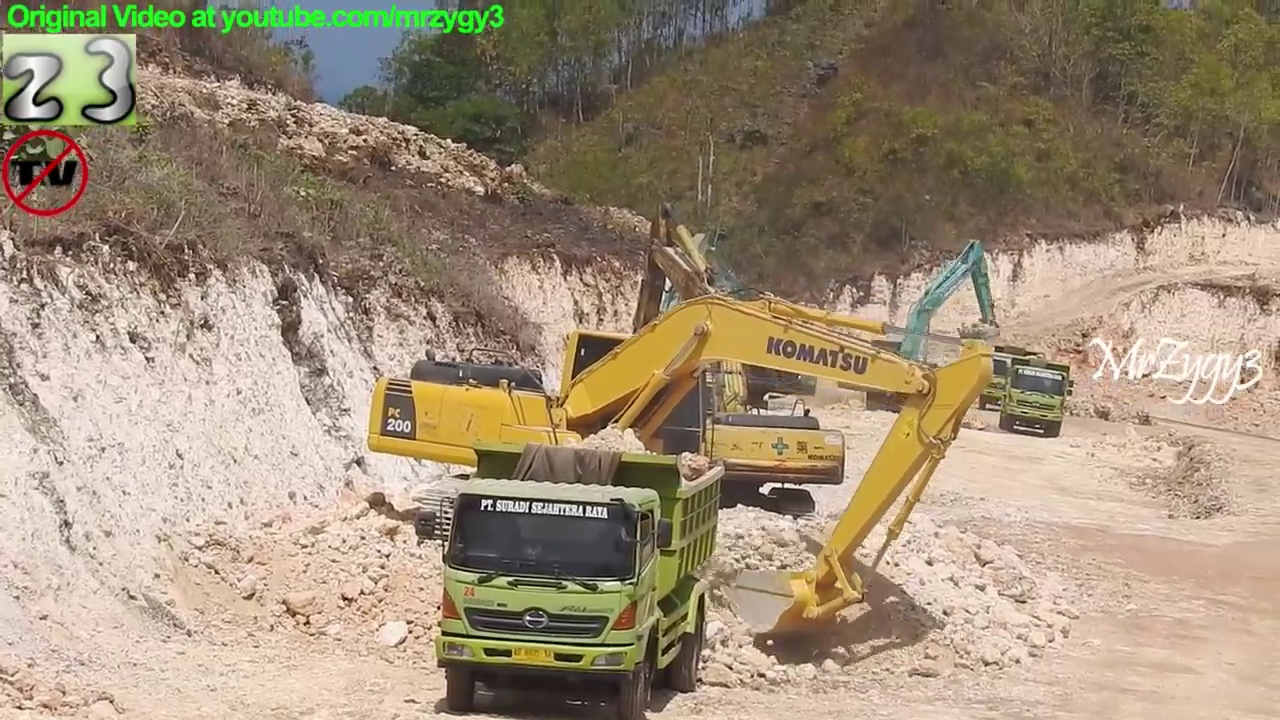excavator: (364, 289, 999, 647), (598, 199, 855, 531), (623, 233, 827, 431), (851, 236, 1006, 417)
truck: (413, 440, 732, 720), (995, 352, 1079, 441), (975, 340, 1048, 414)
